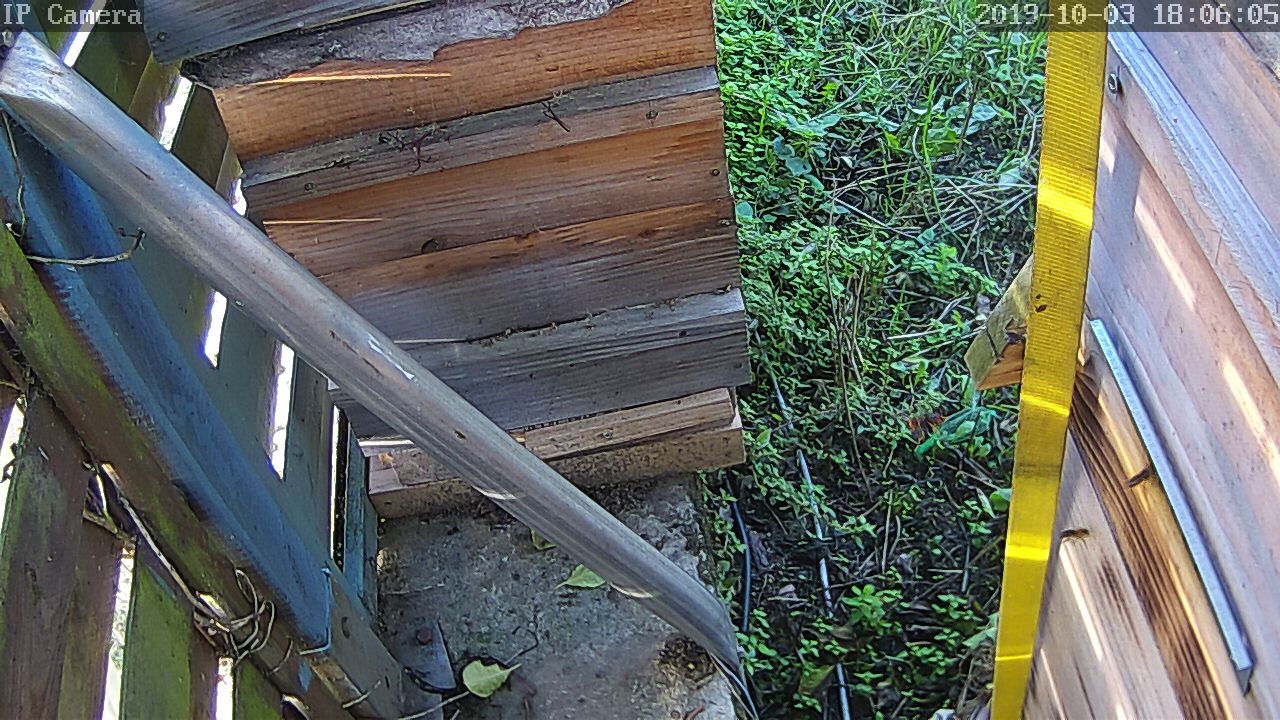bee: (1114, 456, 1163, 500), (1059, 524, 1096, 549)
hornet: (904, 401, 944, 440)
